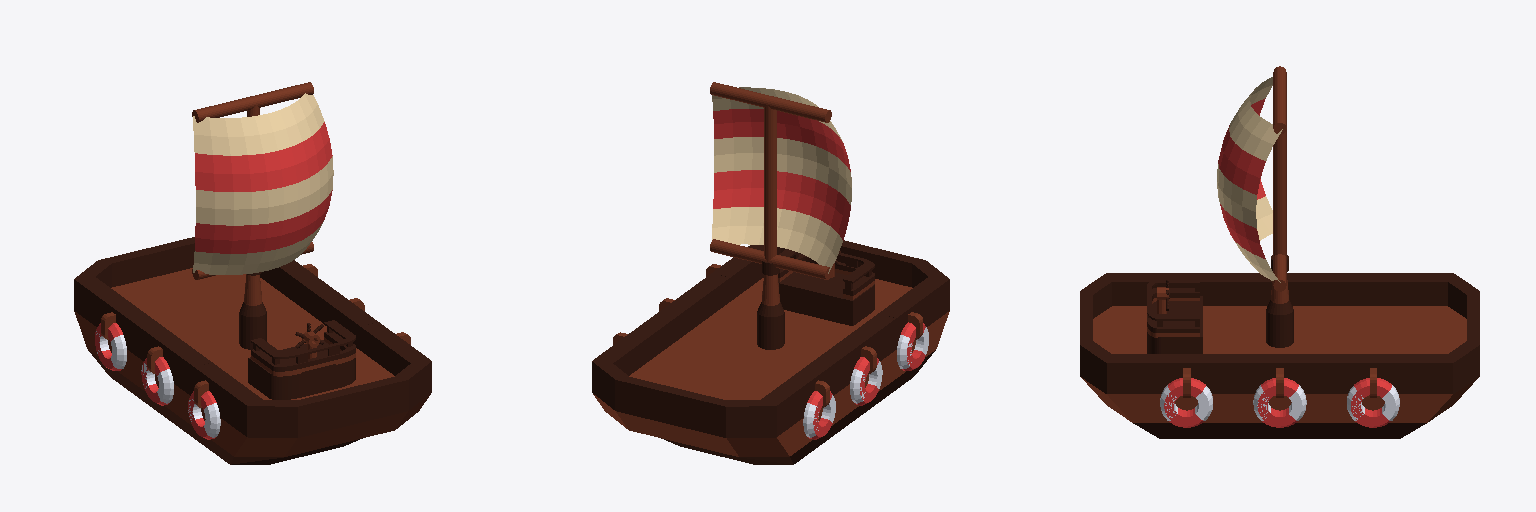
Rendered from Boat1.obj.
3 renders of one model, left to right at view 1: azimuth 30°, elevation 25°; view 2: azimuth 150°, elevation 25°; view 3: azimuth 270°, elevation 25°, orthographic.
Parts seen in each view (by area): view 1: mergedBlocks; view 2: mergedBlocks; view 3: mergedBlocks.
Boxes of the visible parts, <box> form: mergedBlocks: <box>74,82,431,464</box>; mergedBlocks: <box>592,82,949,464</box>; mergedBlocks: <box>1080,66,1479,438</box>.
Size of the model in its own units: 1.85 by 2.65 by 3.